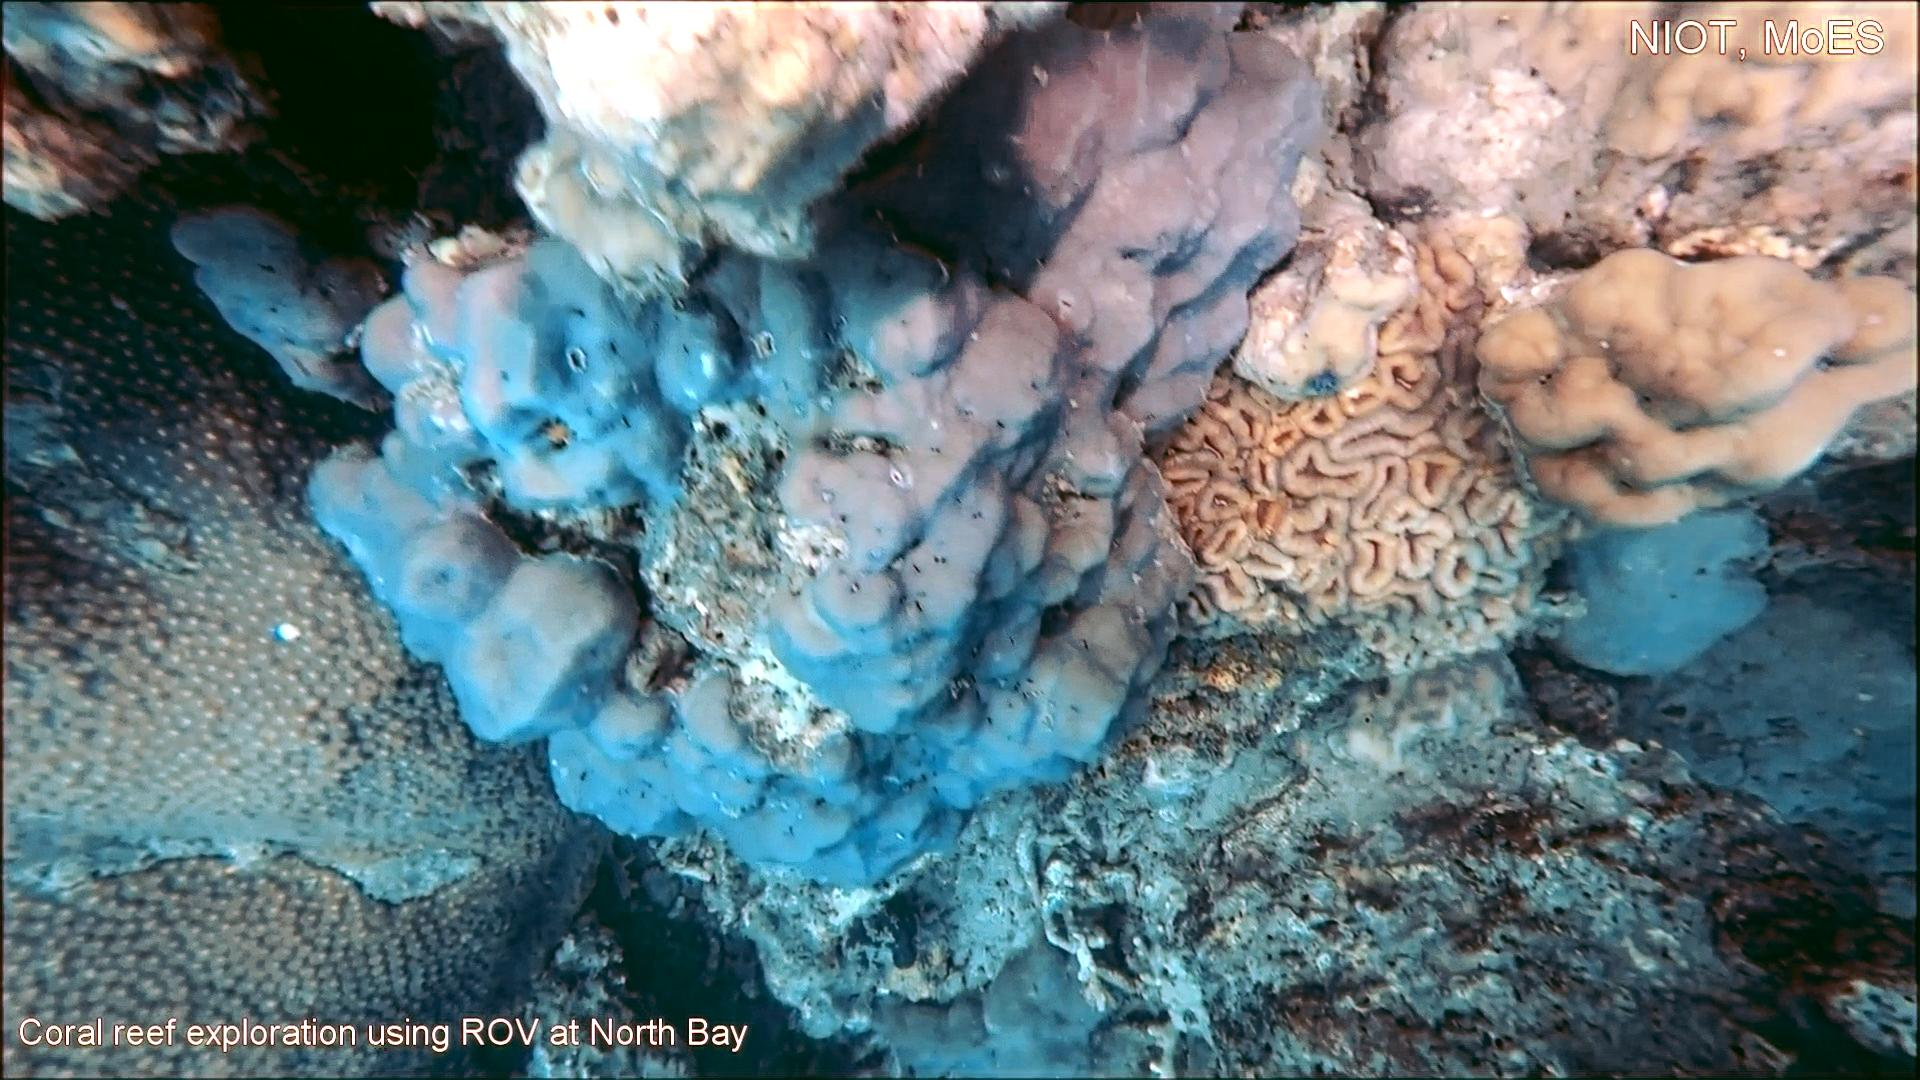Lobophyllia: (1135, 231, 1592, 687)
